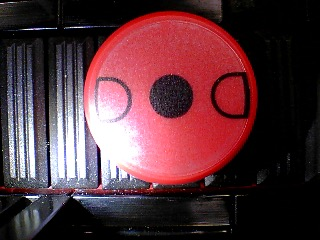BOHOMIPO2: (83, 11, 258, 185)
